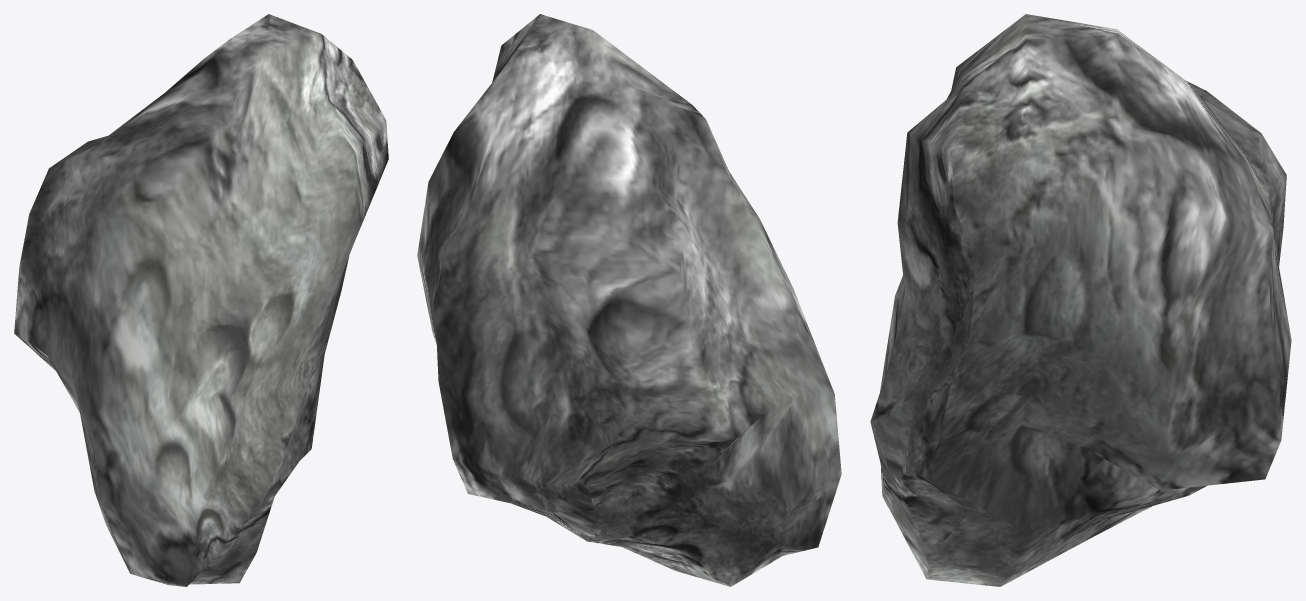
Rendered from Alpha Asteroid spaceman game test.fbx.
3 views of the same model, side by side, from view 1: azimuth 30°, elevation 25°; view 2: azimuth 150°, elevation 25°; view 3: azimuth 270°, elevation 25° (orthographic). The views are drawn at different scales.
Visible parts, largest first — view 1: pCube1; view 2: pCube1; view 3: pCube1.
Part boxes in pixels (x1,y1,x2,y2): pCube1: (14, 14, 388, 586); pCube1: (417, 14, 841, 586); pCube1: (870, 14, 1291, 586).
Bounding box in the file's own units: 19.19 × 29.52 × 18.26.
